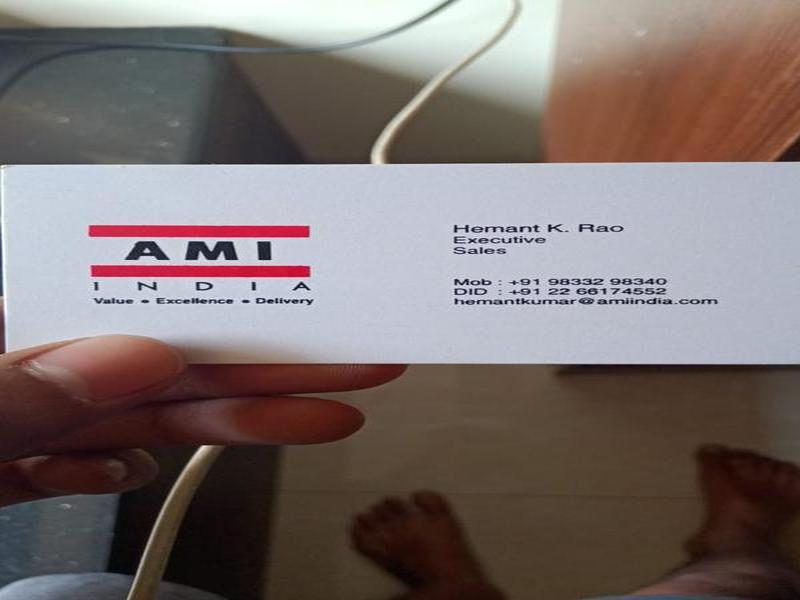card: (1, 165, 800, 367)
